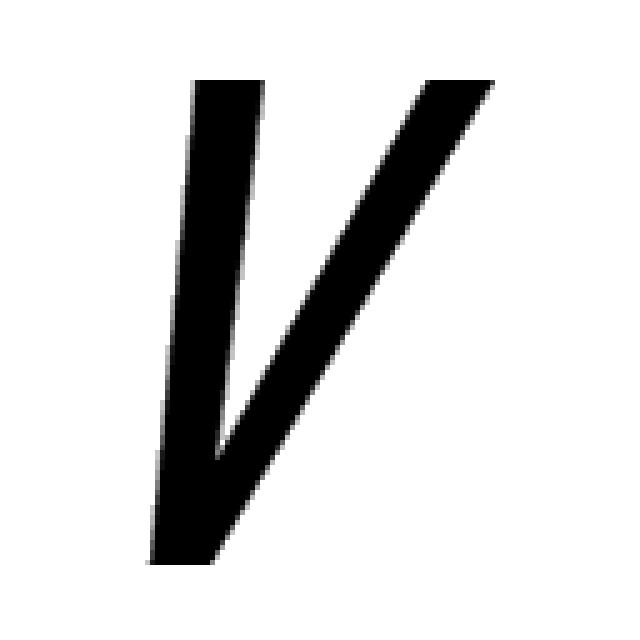V: (140, 65, 495, 565)
